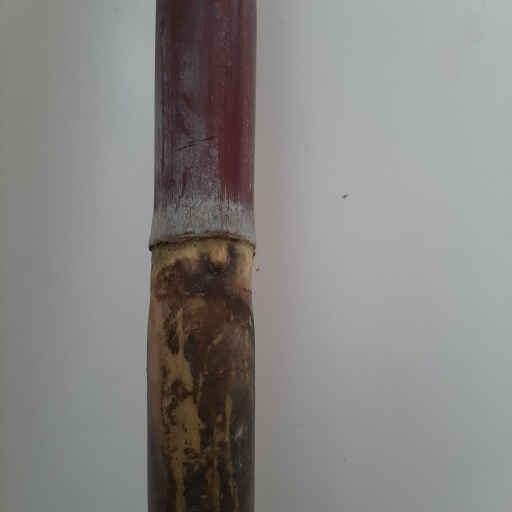Bud: (206, 242, 232, 271)
